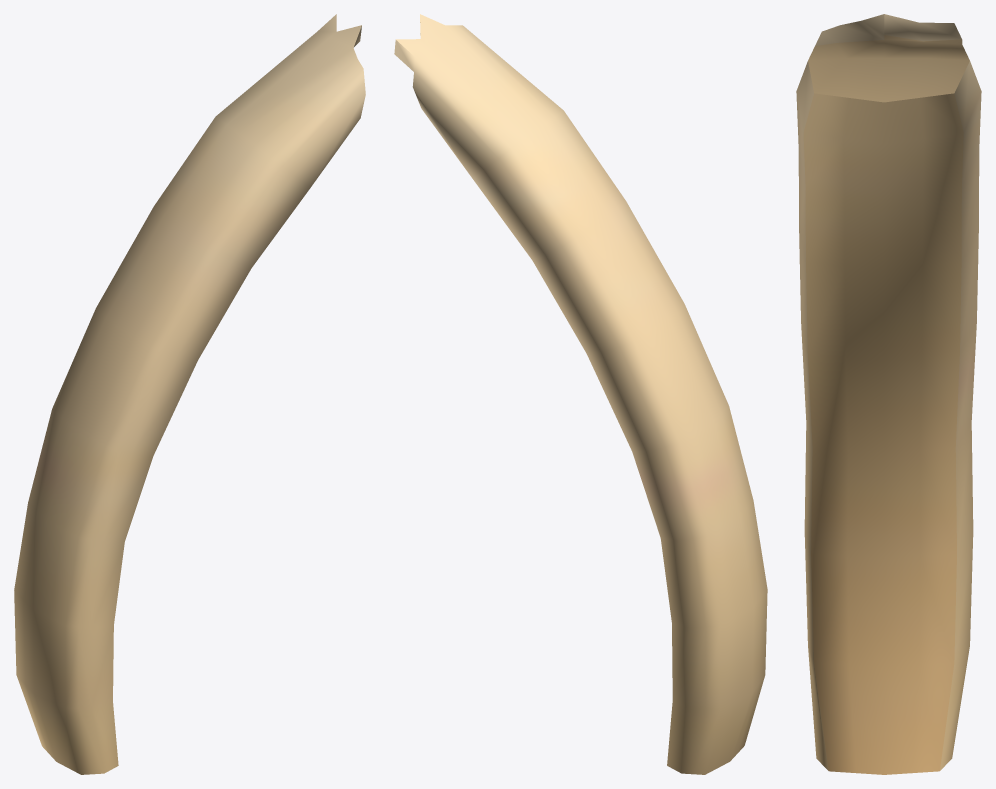
File: Rib3.fbx
The picture shows the model from 3 angles, left to right: view 1: azimuth 30°, elevation 25°; view 2: azimuth 150°, elevation 25°; view 3: azimuth 270°, elevation 25°; orthographic projection. The views are drawn at different scales.
Parts seen in each view (by area): view 1: pCube2; view 2: pCube2; view 3: pCube2.
Boxes of the visible parts, x1,y1,x2,y2 form: pCube2: (14,14,365,774); pCube2: (394,14,767,774); pCube2: (796,14,981,774).
Bounding box in the file's own units: 4.25 × 8.18 × 1.46.
